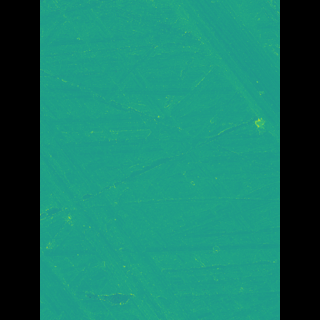Loch: (69, 129, 185, 320), (164, 0, 250, 146)
